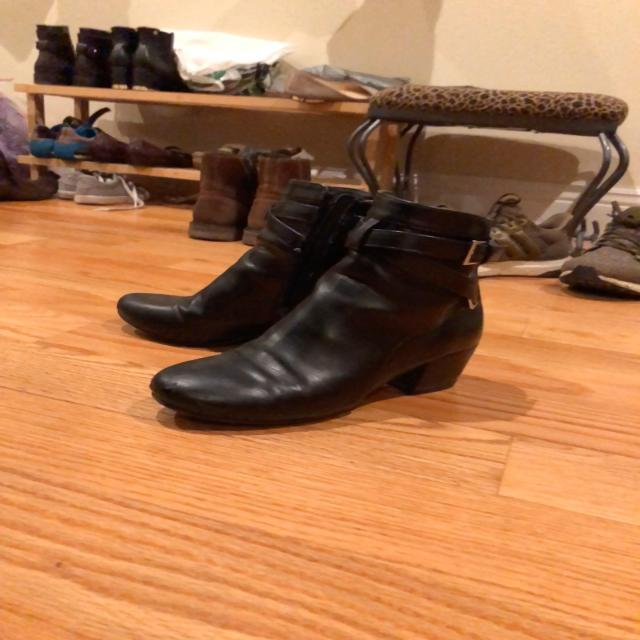shoe: (151, 202, 495, 415)
